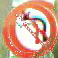Don't turn left: (4, 2, 57, 54)
